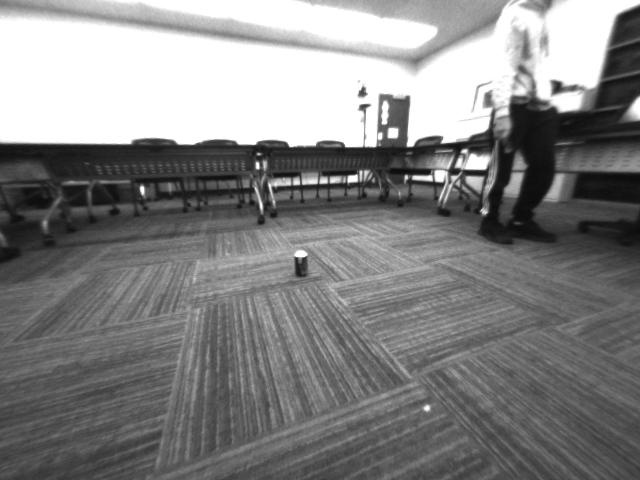can: (290, 245, 314, 282)
